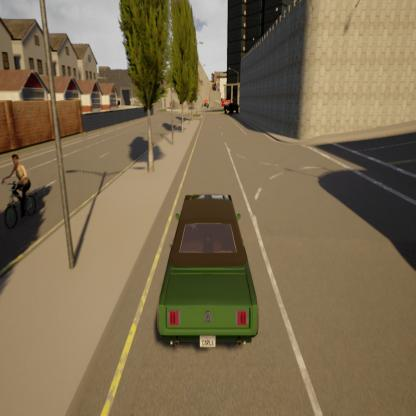Cars: (154, 193, 262, 352), (0, 149, 43, 229), (224, 101, 238, 116)
